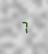seven: (19, 20, 27, 33)
